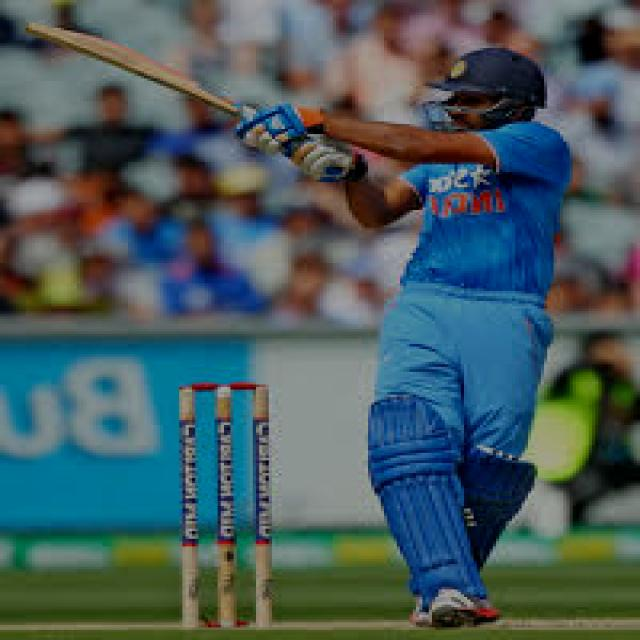toe: (10, 17, 62, 37)
